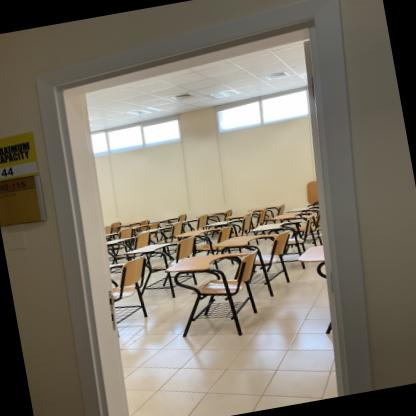open: (0, 1, 410, 415)
